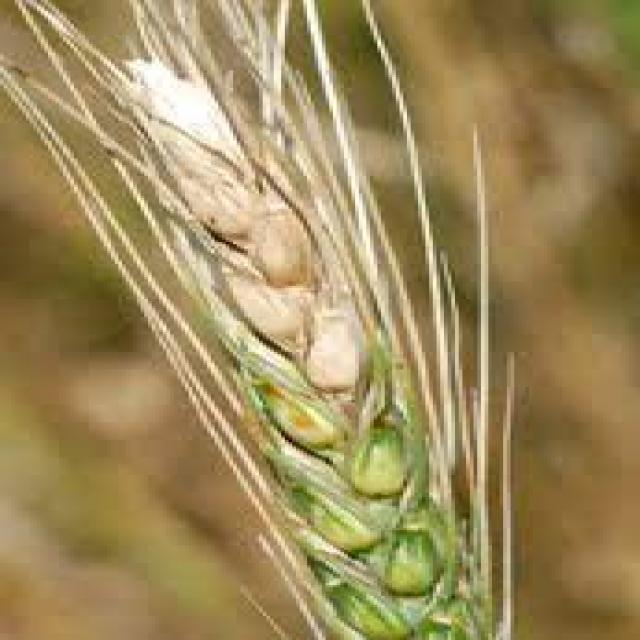Wheathead: (89, 51, 511, 640)
